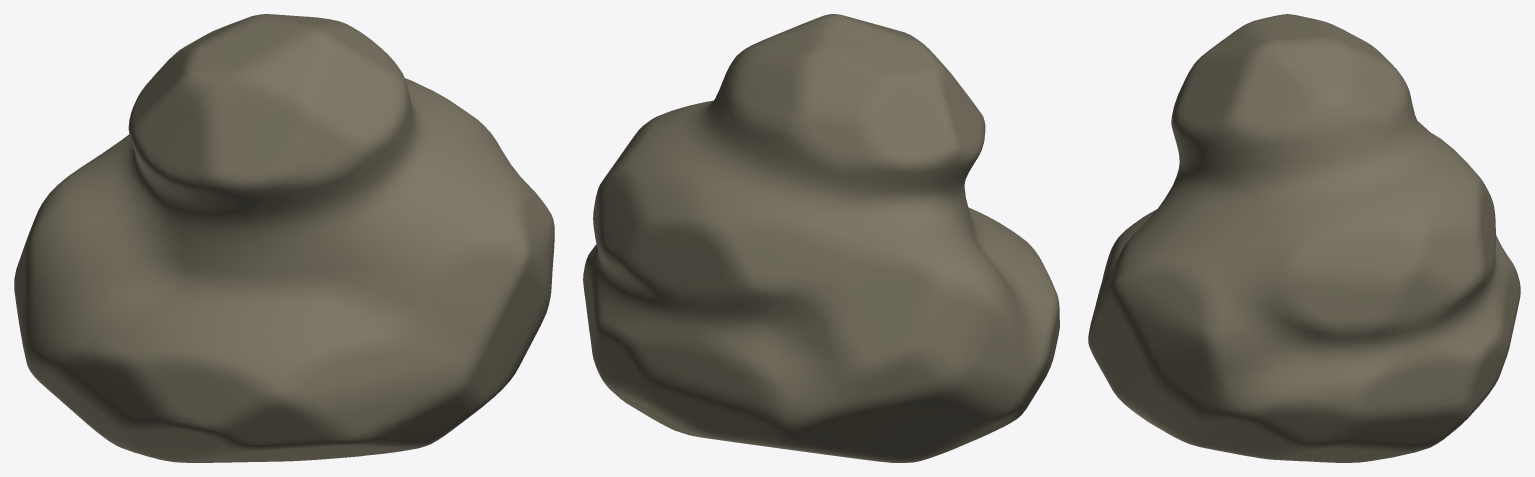
The model's file is bommie.glb.
3 views of the same model, side by side, from view 1: azimuth 30°, elevation 25°; view 2: azimuth 150°, elevation 25°; view 3: azimuth 270°, elevation 25° (orthographic). The views are drawn at different scales.
Parts seen in each view (by area): view 1: rock; view 2: rock; view 3: rock.
Boxes of the visible parts, <box> form: rock: <box>14,14,554,462</box>; rock: <box>583,14,1059,462</box>; rock: <box>1088,14,1520,462</box>.
Bounding box in the file's own units: 7.04 × 5.98 × 6.07.
